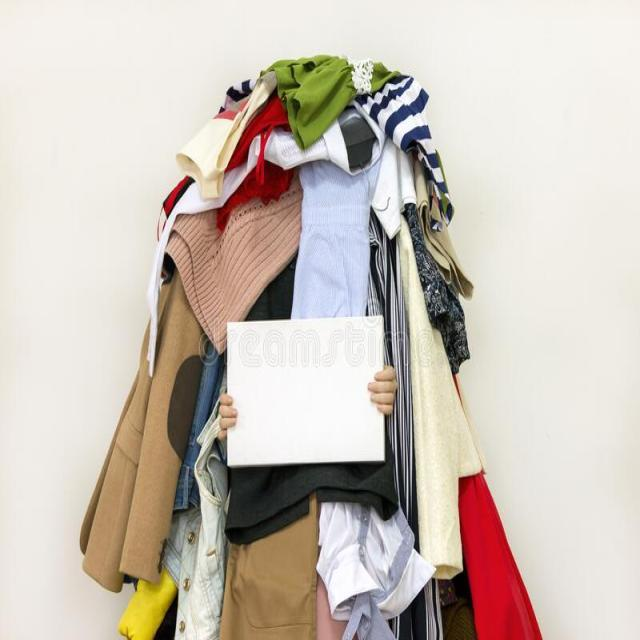clothes: (206, 96, 436, 303)
